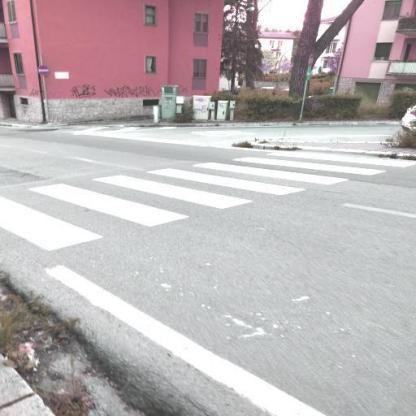crosswalk: (88, 166, 313, 214)
